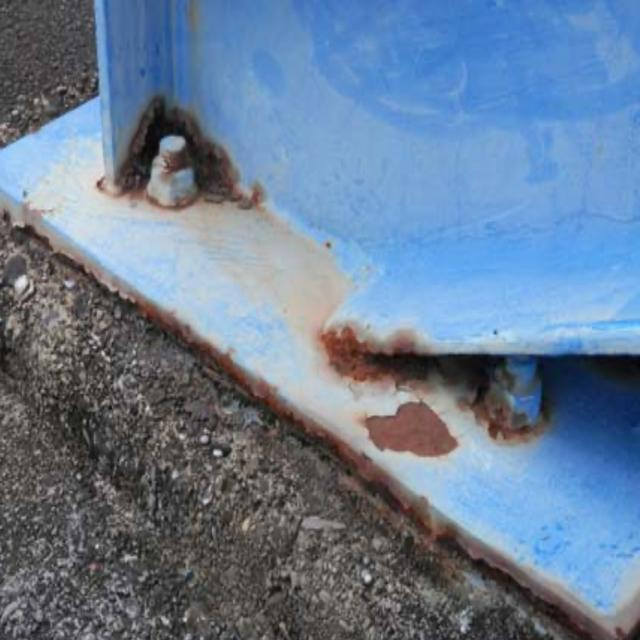corrosion: (26, 131, 487, 470)
